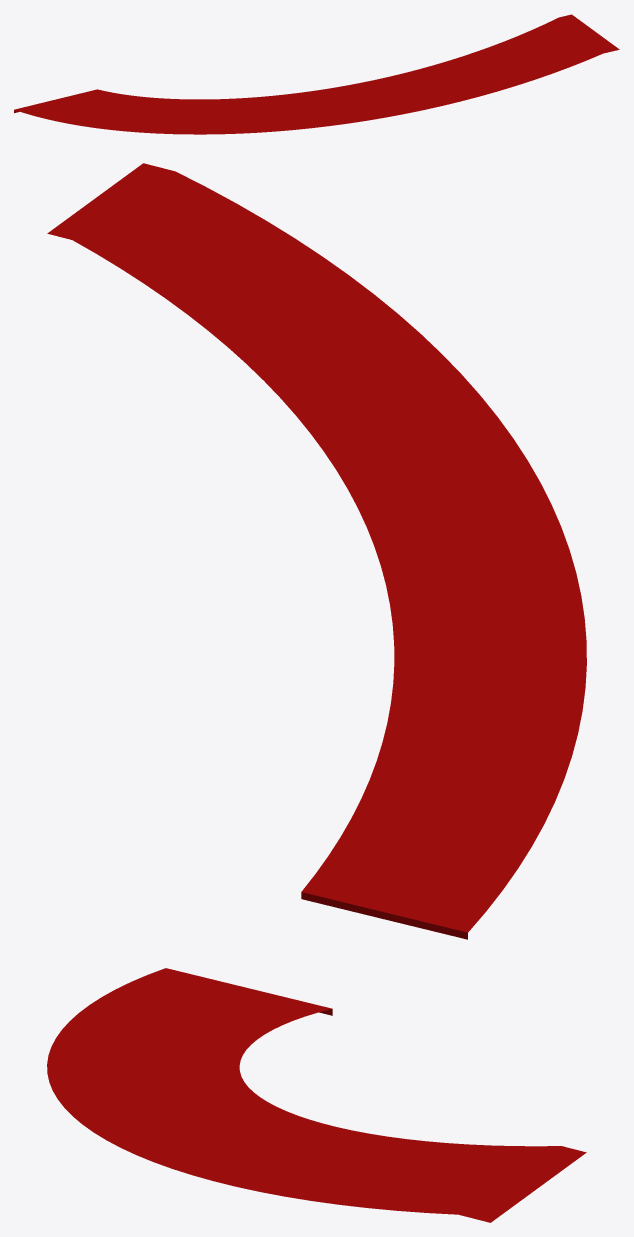
The model's file is CurvedStairs3_COLLISION.fbx.
3 renders of one model, top to bottom at view 1: azimuth 30°, elevation 25°; view 2: azimuth 150°, elevation 25°; view 3: azimuth 330°, elevation 25°, orthographic. The views are drawn at different scales.
Visible parts, largest first — view 1: Stairs; view 2: Stairs; view 3: Stairs.
Boxes of the visible parts, x1=… form: Stairs: x1=14, y1=14, x2=619, y2=134; Stairs: x1=47, y1=163, x2=586, y2=939; Stairs: x1=47, y1=968, x2=586, y2=1222.
Bounding box in the file's own units: 3193 × 1050 × 3193.
